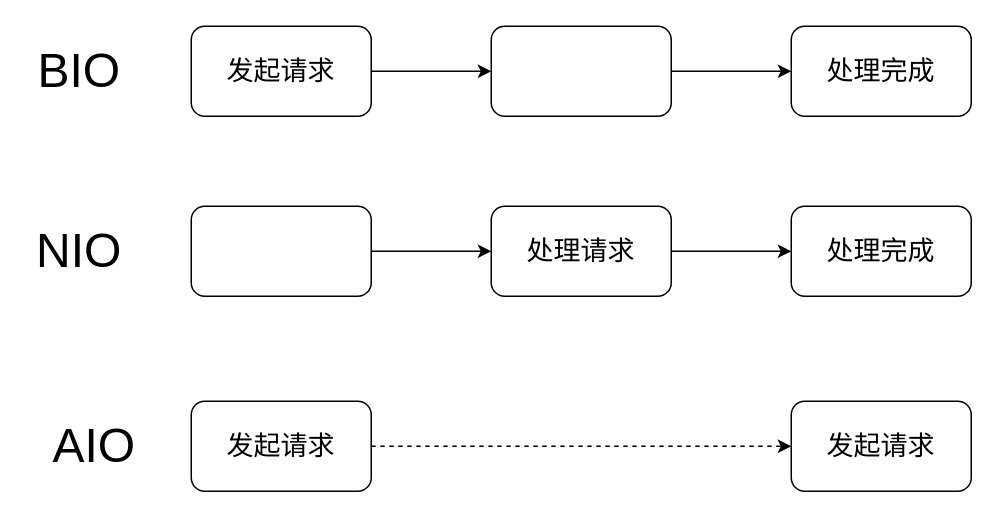
Some shapes in this 998 by 518 pixel diagram are drawn without their labels. Each missing label, with the centre of its shape:
"Selctor主动轮询channel" goes at (x=280, y=250).
"一直阻塞" goes at (x=580, y=70).
